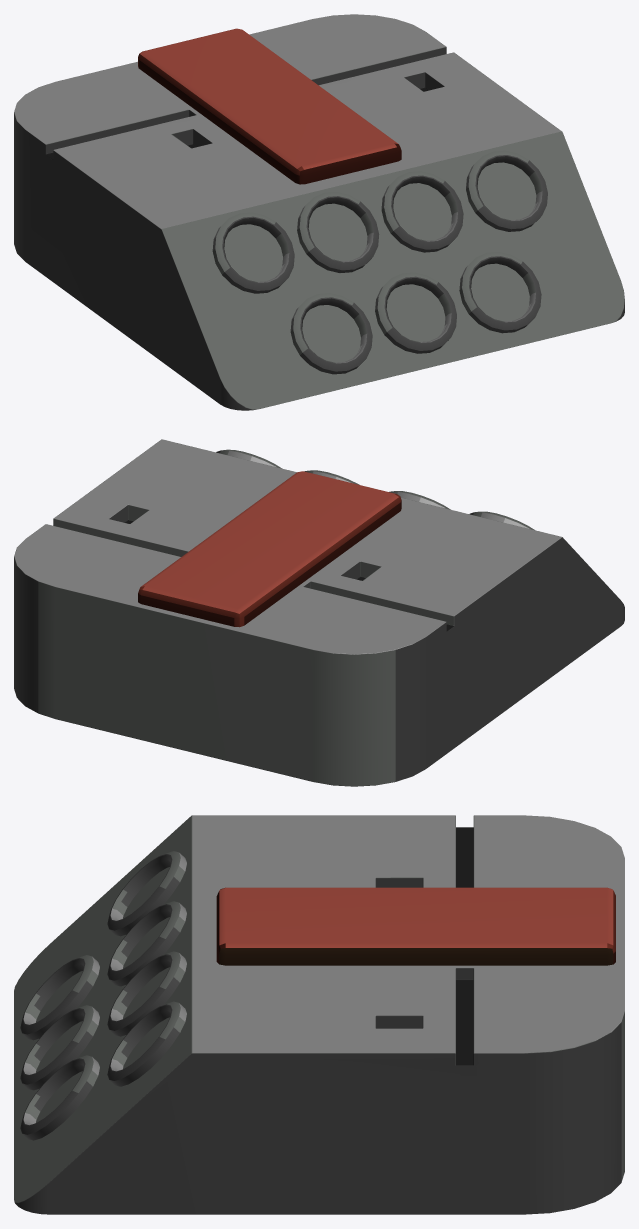
File: carrier_launcher.glb
3 views of the same model, one above another, from view 1: azimuth 30°, elevation 25°; view 2: azimuth 150°, elevation 25°; view 3: azimuth 270°, elevation 25° (orthographic). The views are drawn at different scales.
Parts seen in each view (by area): view 1: carrier_launcher; view 2: carrier_launcher; view 3: carrier_launcher.
Part boxes in pixels (<box>): carrier_launcher: <box>14,14,624,410</box>; carrier_launcher: <box>14,439,624,786</box>; carrier_launcher: <box>14,815,624,1214</box>.
Size of the model in its own units: 19 by 8.6 by 20.59.
